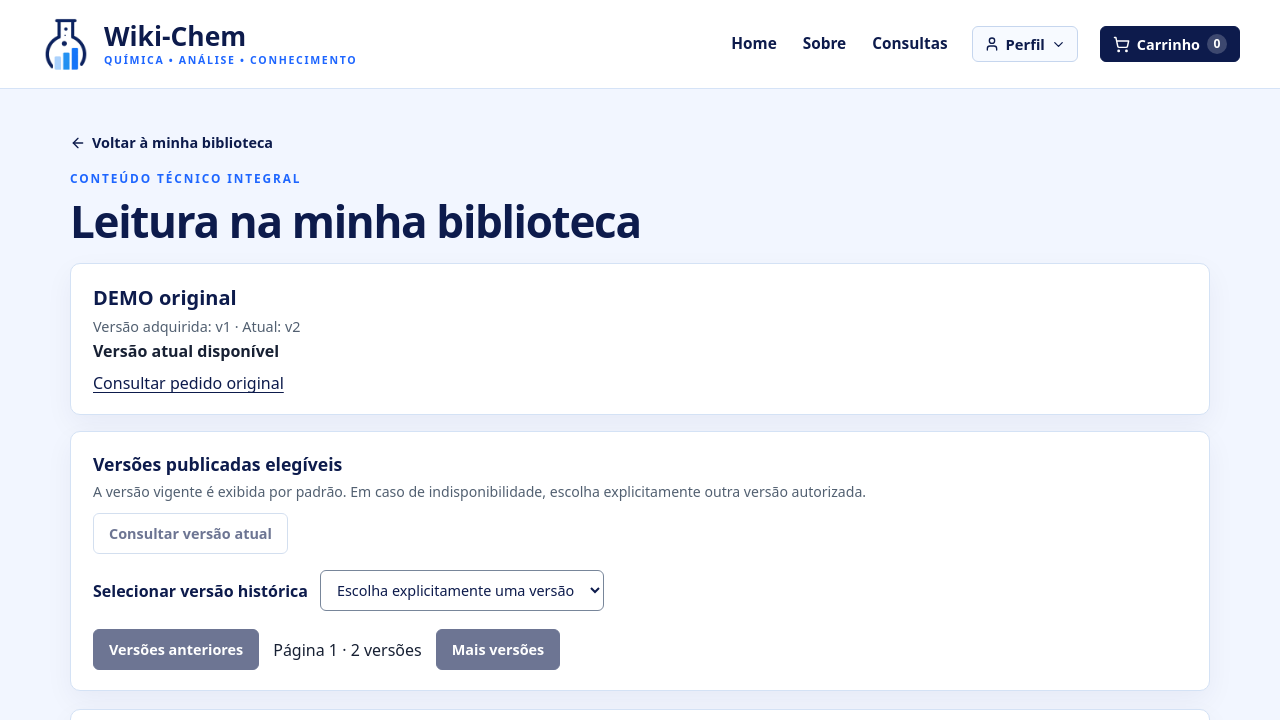
Test case: biblioteca e leitura autorizada estruturada na interface › atual suspensa não seleciona histórico automaticamente e permite escolha explícita
Step 1. Select "v1 — adquirida" in the dropdown labelled "Selecionar versão histórica" → (462, 591), box left=320, top=570, right=604, bottom=611
(page scrolled)
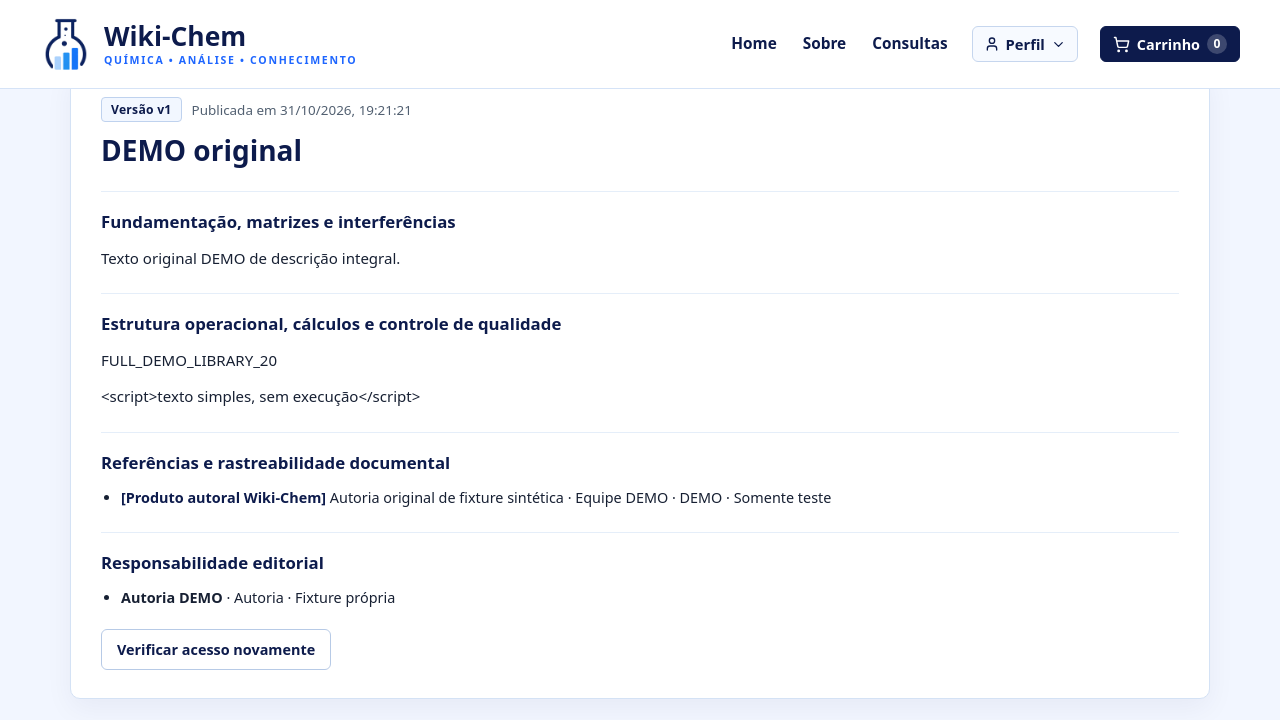
Expected: the text "FULL_DEMO_LIBRARY_20" is shown, left=101, top=350, right=277, bottom=370
